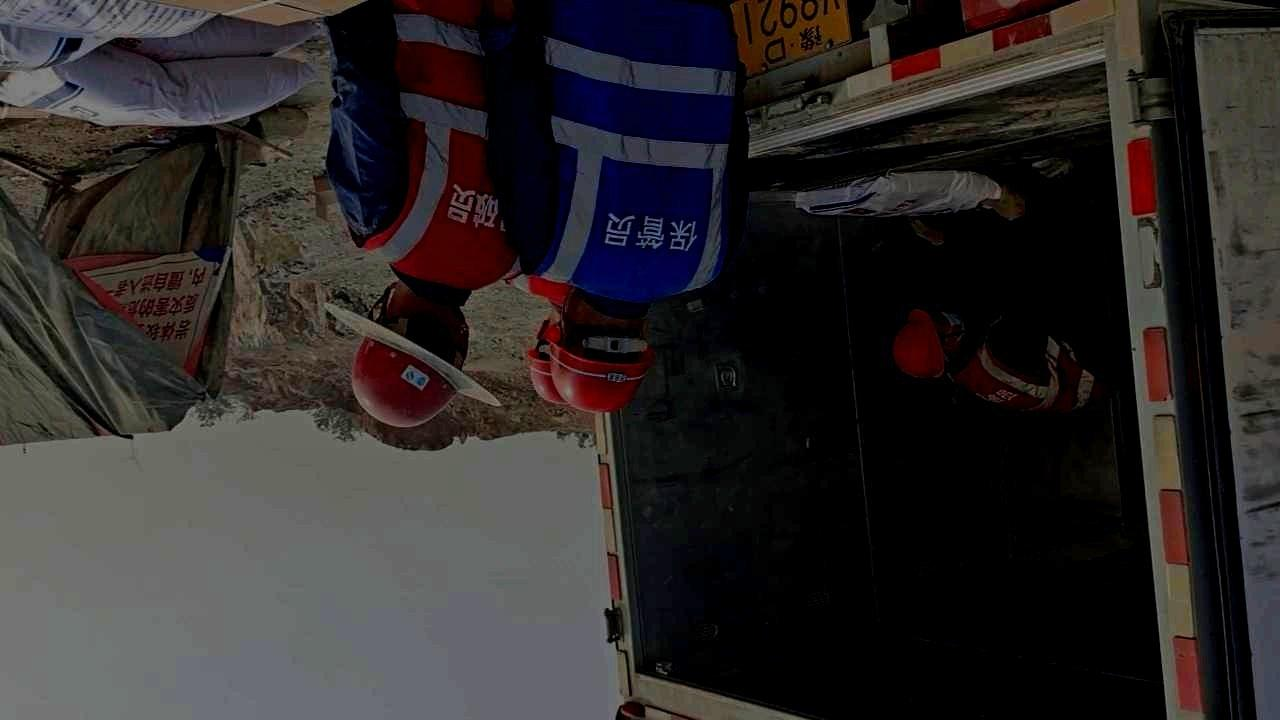helmet: (350, 277, 470, 429), (543, 288, 650, 414), (893, 307, 965, 380), (524, 310, 571, 405)
